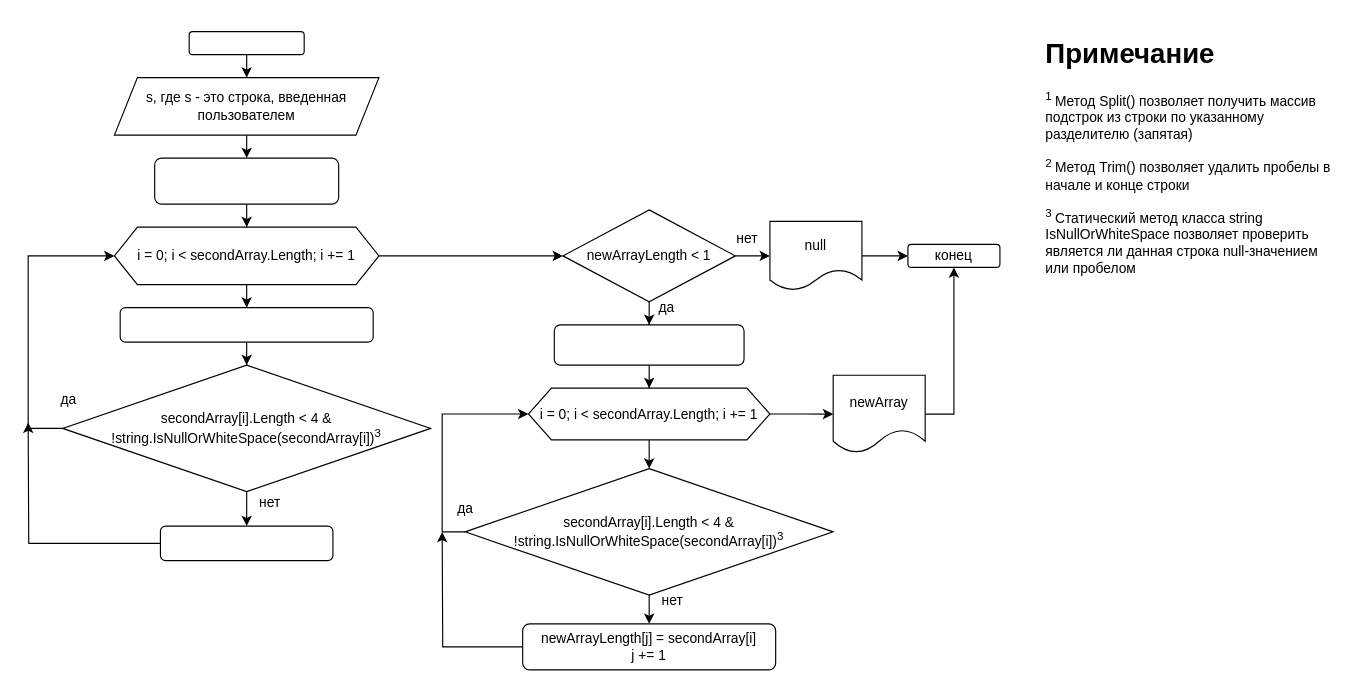
Some shapes in this 1359 by 690 pixel diagram are drawn without their labels. Each missing label, with the box of its shape:
newArray[newArrayLength] j = 0: (553, 324, 744, 365)
newArrayLength += 1: (159, 525, 333, 561)
secondArray = s.Split(',') 1 newArrayLength = 0: (154, 157, 339, 204)
secondArray[i] = secondArray[i].Trim() 2: (119, 306, 373, 342)
старт: (188, 30, 304, 55)
